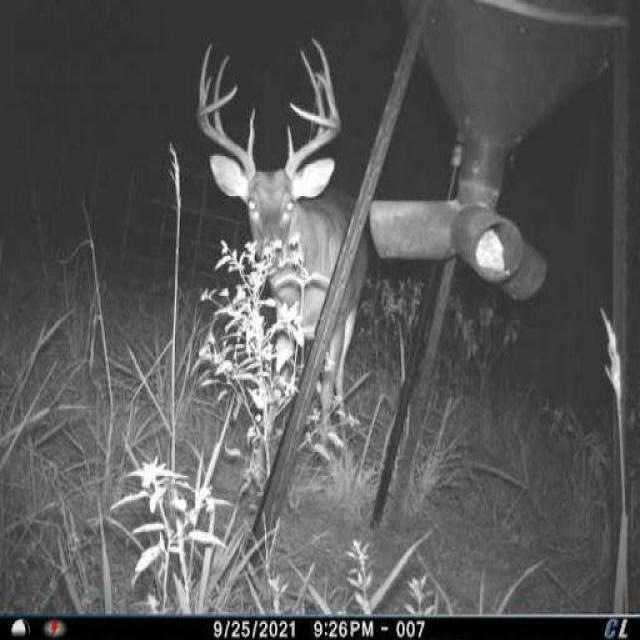deer: (191, 25, 370, 484)
